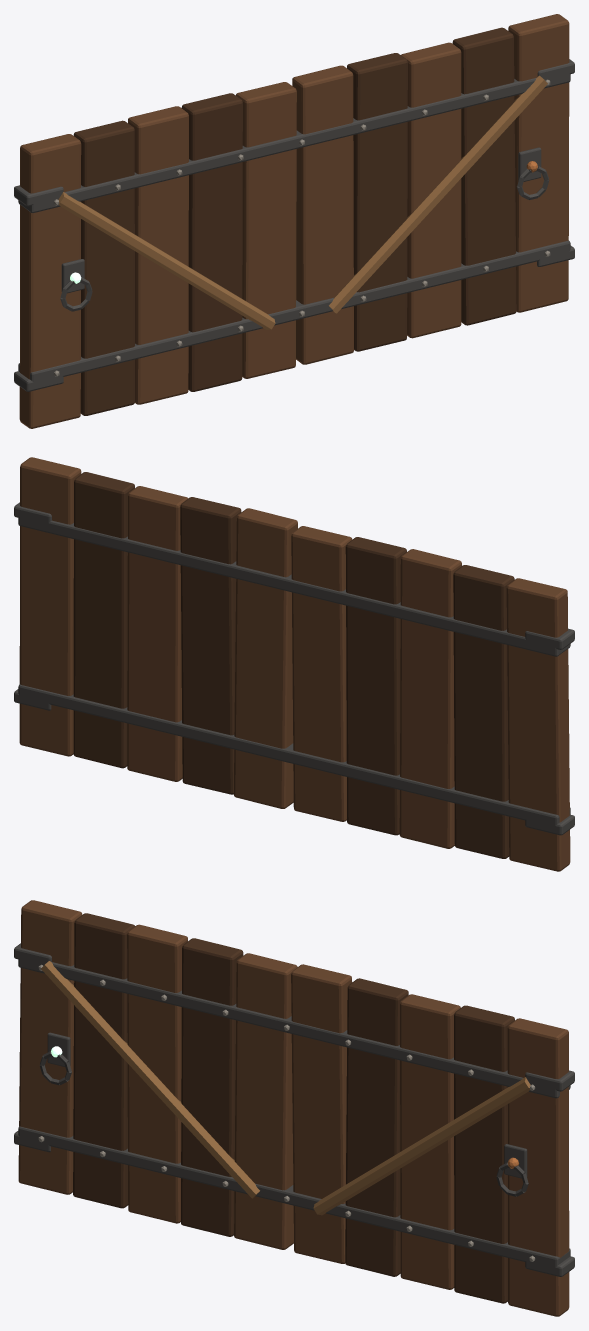
Rendered from porte_double.glb.
3 renders of one model, top to bottom at view 1: azimuth 30°, elevation 25°; view 2: azimuth 150°, elevation 25°; view 3: azimuth 330°, elevation 25°, orthographic.
Visible parts, largest first — view 1: porte_double; view 2: porte_double; view 3: porte_double.
Boxes of the visible parts, x1,y1,x2,y2 form: porte_double: (14,14,574,428); porte_double: (14,457,574,871); porte_double: (14,900,574,1316).
Bounding box in the file's own units: 8.05 × 3.97 × 0.495.
